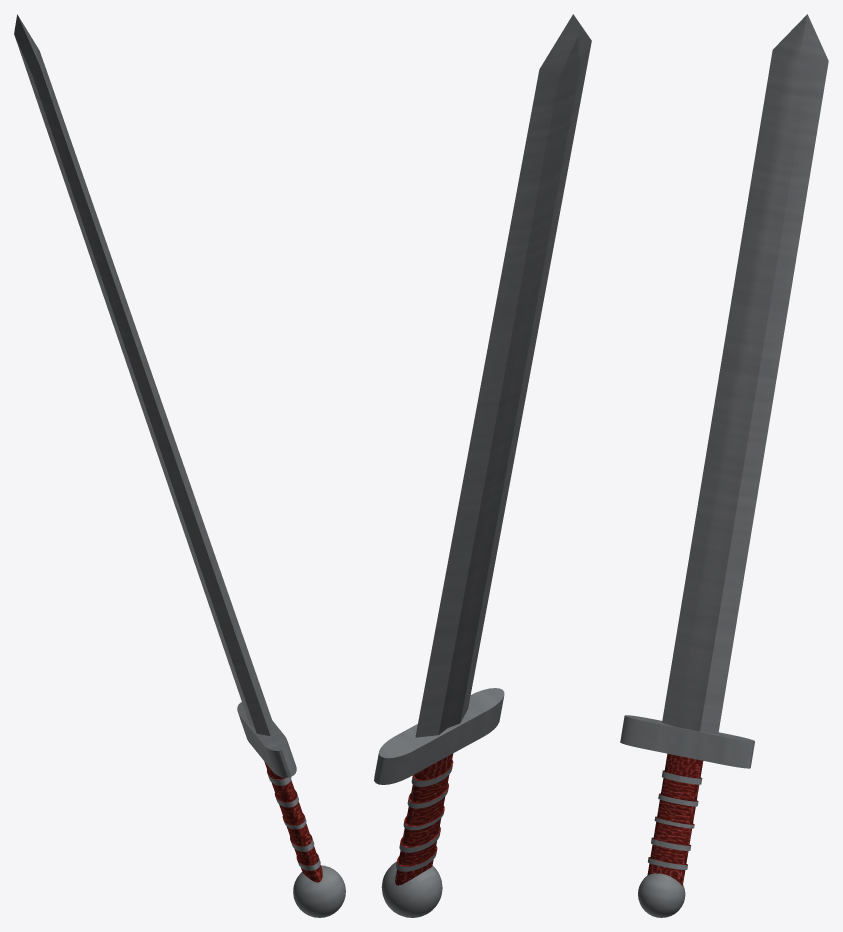
Rendered from mec.obj.
The picture shows the model from 3 angles, left to right: view 1: azimuth 30°, elevation 25°; view 2: azimuth 150°, elevation 25°; view 3: azimuth 270°, elevation 25°; orthographic projection. The views are drawn at different scales.
Parts seen in each view (by area): view 1: Mec_ostri_Plane.000; view 2: Mec_ostri_Plane.000; view 3: Mec_ostri_Plane.000.
Part boxes in pixels (bbox=[...]): Mec_ostri_Plane.000: bbox=[14, 14, 345, 917]; Mec_ostri_Plane.000: bbox=[374, 14, 591, 917]; Mec_ostri_Plane.000: bbox=[620, 14, 828, 917].
Size of the model in its own units: 0.4398 by 1.52 by 0.3572.
1 material, 1 textured.
